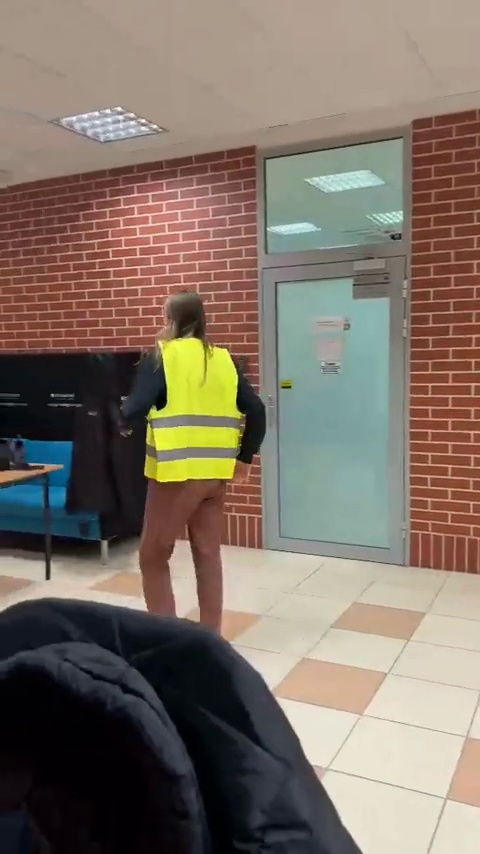vest: (129, 288, 266, 631)
